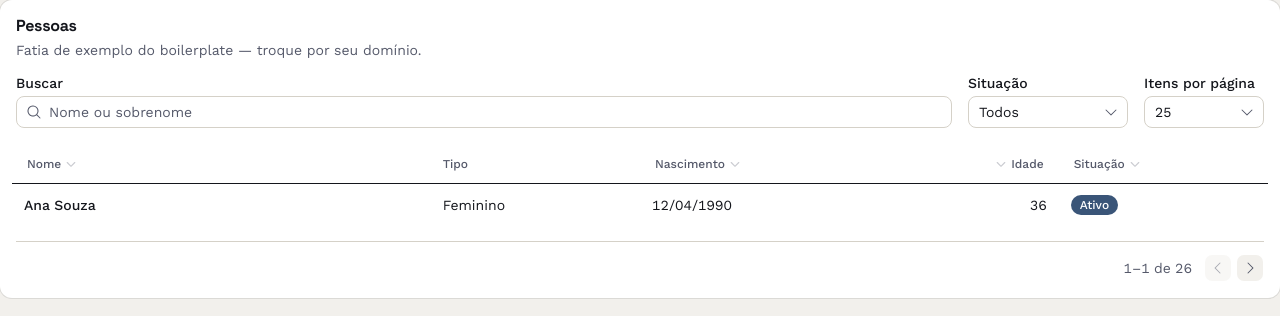
Test case: PaginaPessoas › avança de página usando o total do X-Total-Count
Check: the text "Ana Souza" is shown, box x1=24 y1=197 x2=96 y2=213
Click the button named "Próxima página" at (1250, 268), box x1=1236 y1=254 x2=1264 y2=282
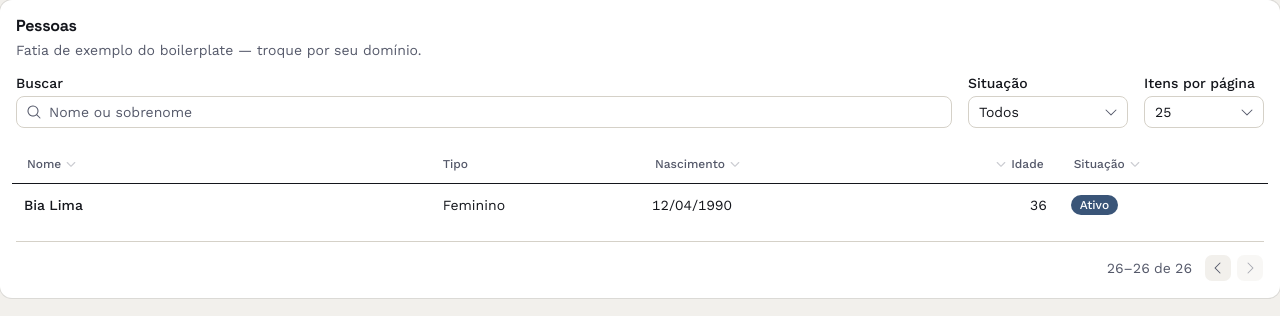
Check: the text "Bia Lima" is shown, box x1=24 y1=197 x2=83 y2=213
